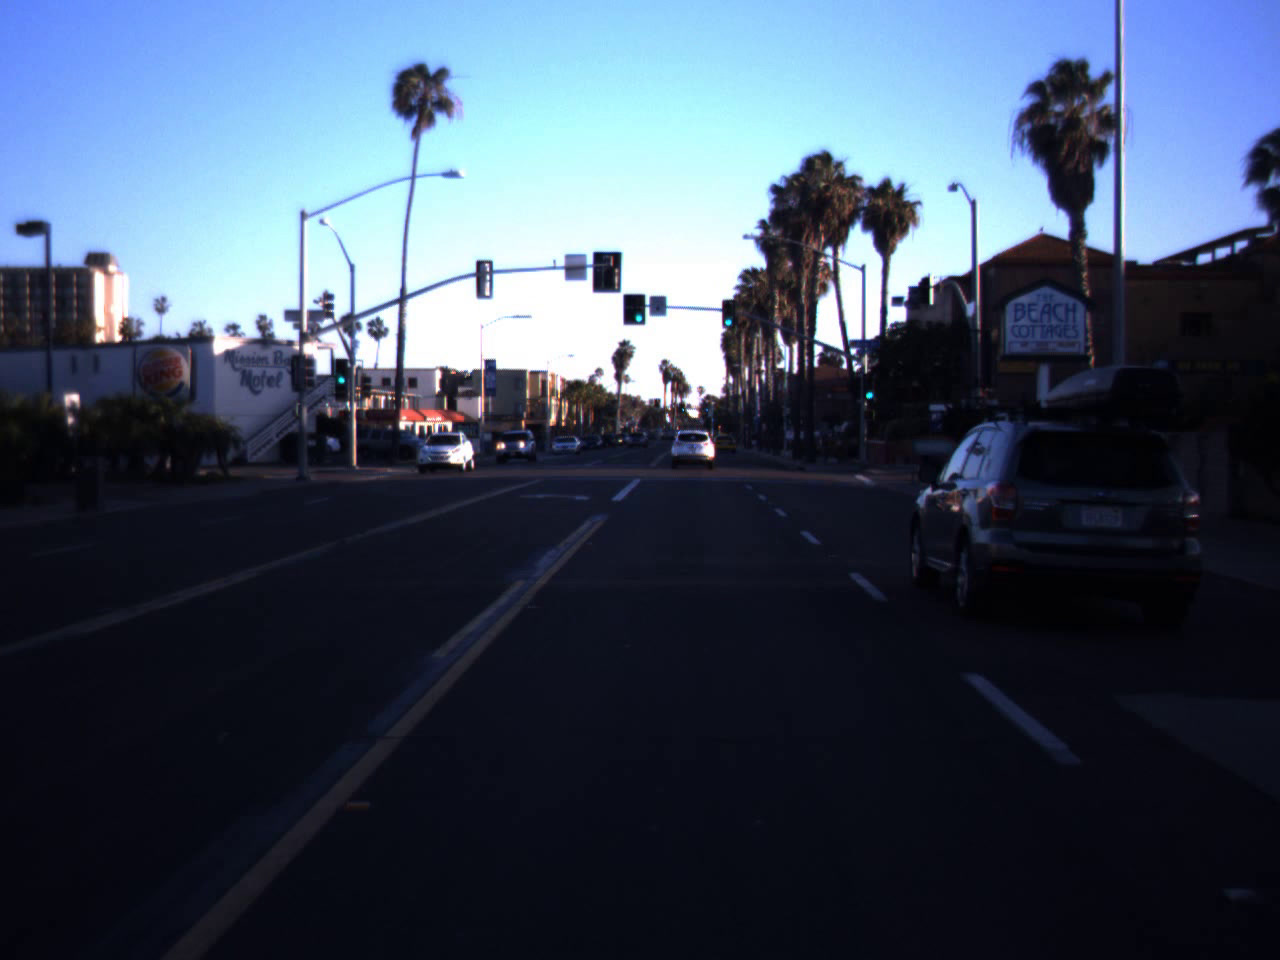go: (630, 295, 648, 325), (721, 302, 736, 327), (862, 380, 877, 400), (334, 364, 349, 384)
